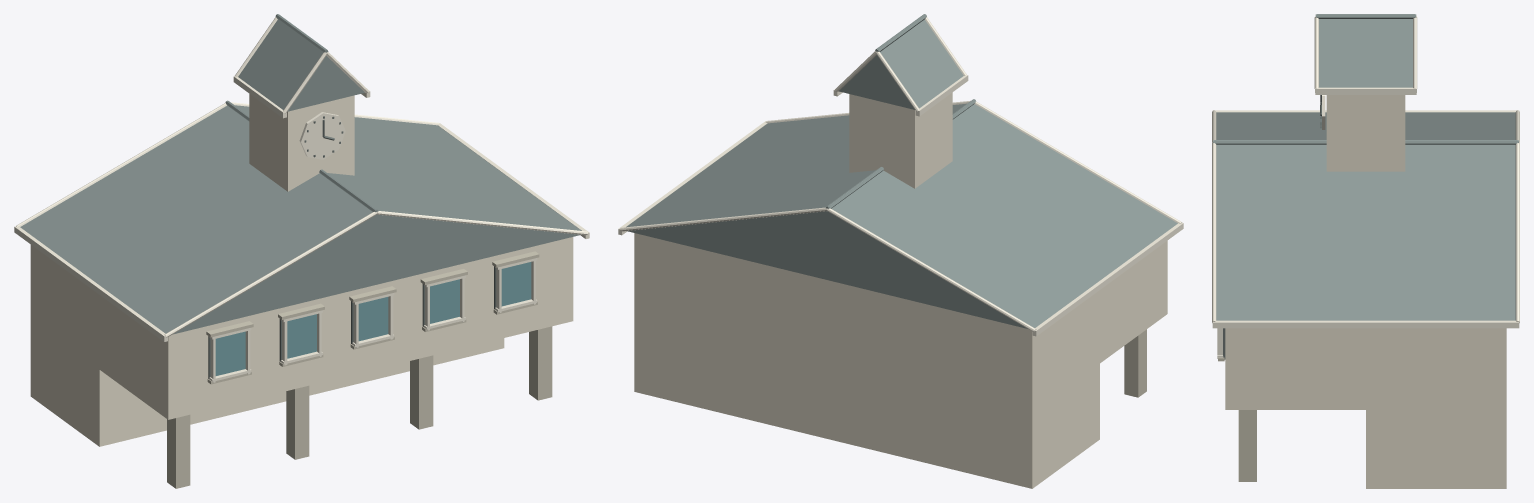
The model's file is market-hall.glb.
The picture shows the model from 3 angles, left to right: view 1: azimuth 30°, elevation 25°; view 2: azimuth 150°, elevation 25°; view 3: azimuth 270°, elevation 25°; orthographic projection. The views are drawn at different scales.
Size of the model in its own units: 17.86 by 14.66 by 10.95.
